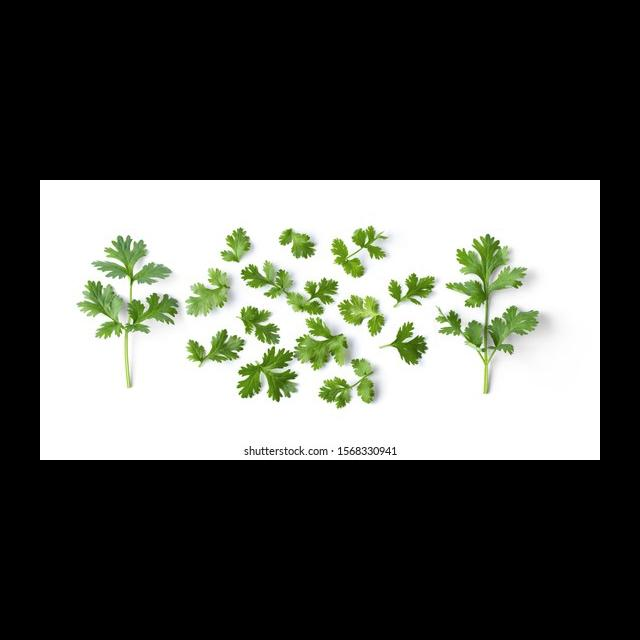cilantro: (436, 234, 539, 395), (74, 236, 179, 390), (294, 319, 351, 370), (277, 228, 319, 259), (221, 228, 254, 262)
